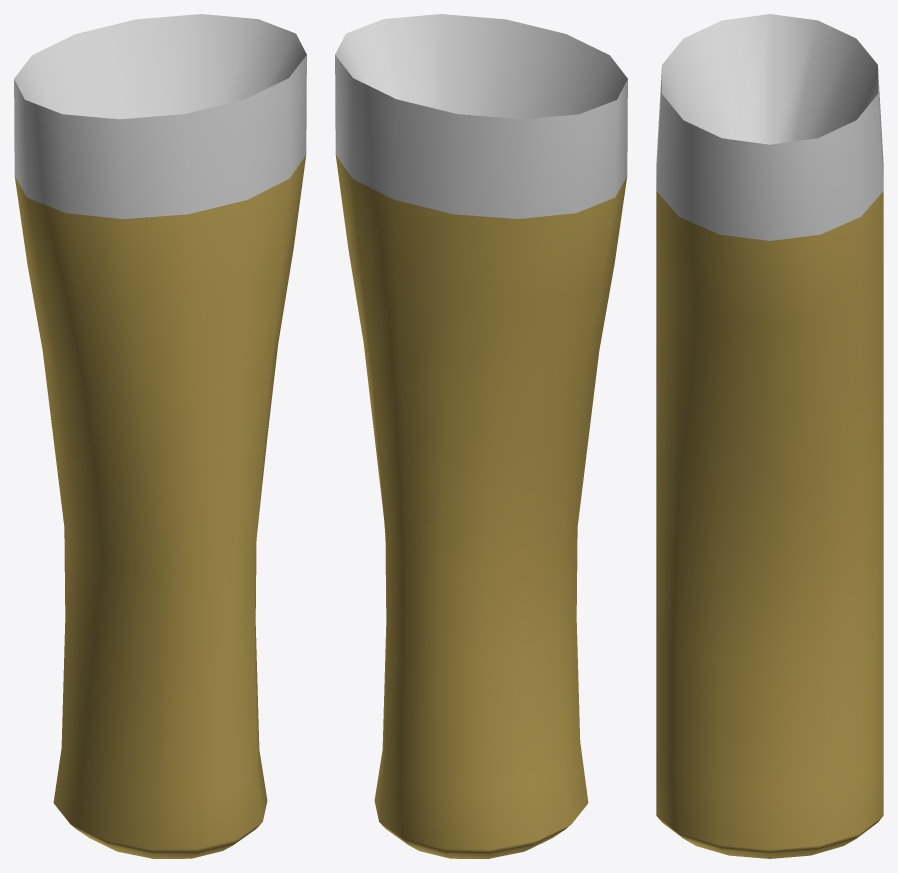
The model's file is Beer cylinder.fbx.
3 views of the same model, side by side, from view 1: azimuth 30°, elevation 25°; view 2: azimuth 150°, elevation 25°; view 3: azimuth 270°, elevation 25° (orthographic).
Parts seen in each view (by area): view 1: pCylinder1; view 2: pCylinder1; view 3: pCylinder1.
Part boxes in pixels (left/top/right/bottom): pCylinder1: left=14, top=14, right=306, bottom=858; pCylinder1: left=335, top=14, right=627, bottom=858; pCylinder1: left=656, top=14, right=883, bottom=858.
Bounding box in the file's own units: 5.54 × 15.07 × 4.07.
